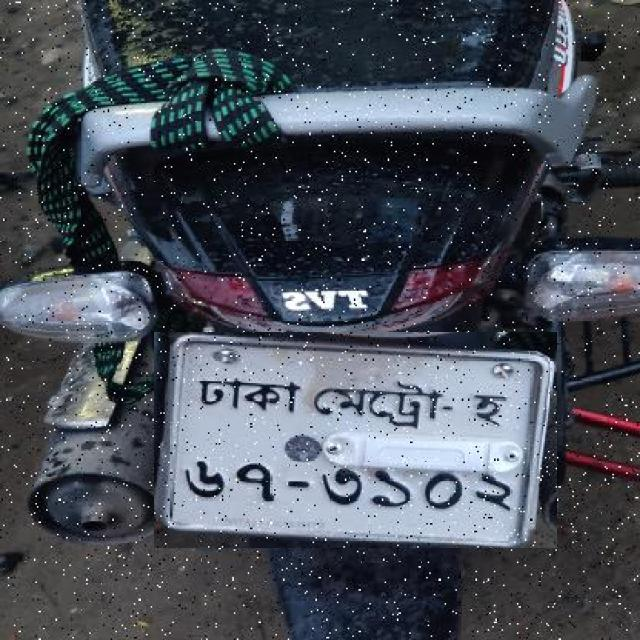numberplate: (154, 332, 557, 548)
